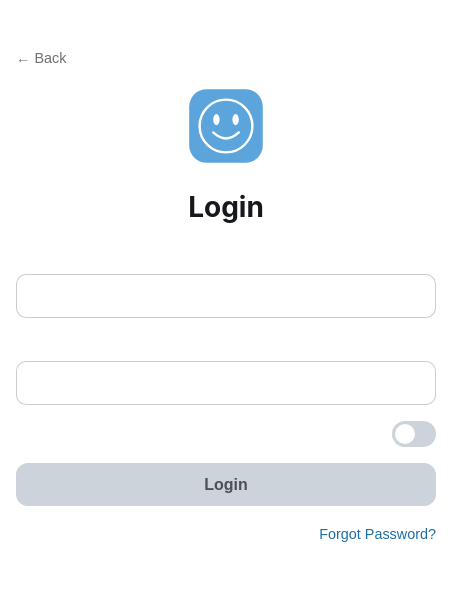
Test: shows error banner on failed login
Type "ada" into the field labelled "Username or Email" at (226, 296), box [16,274,436,318]
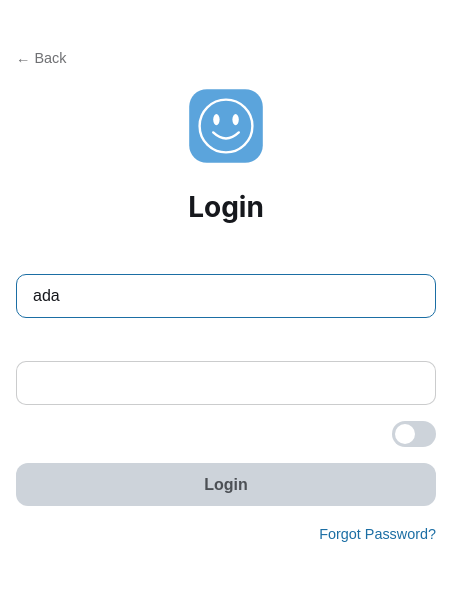
Type "wrong" into the password field labelled "Password" at (226, 383), box [16,361,436,405]
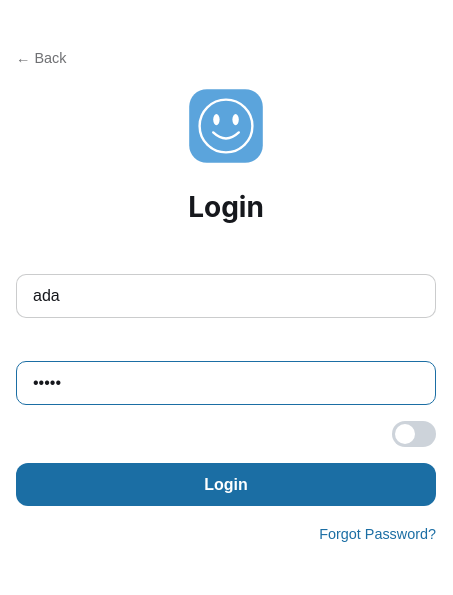
Click the button "Login" at (226, 485), box [16,463,436,506]
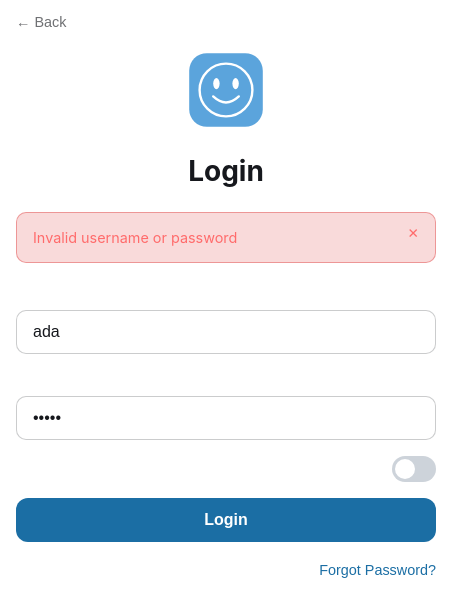
Check: the message shows "Invalid username or password", box [33,229,237,246]
